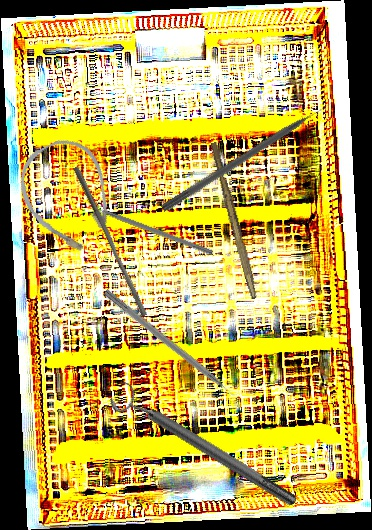Cannula: (6, 128, 133, 270)
Chopper: (86, 195, 216, 256)
Fixation Ring: (106, 377, 303, 518)
Pusher: (160, 98, 336, 215), (101, 288, 246, 408), (66, 165, 154, 318)
Scalpel Handle: (207, 141, 262, 300)
